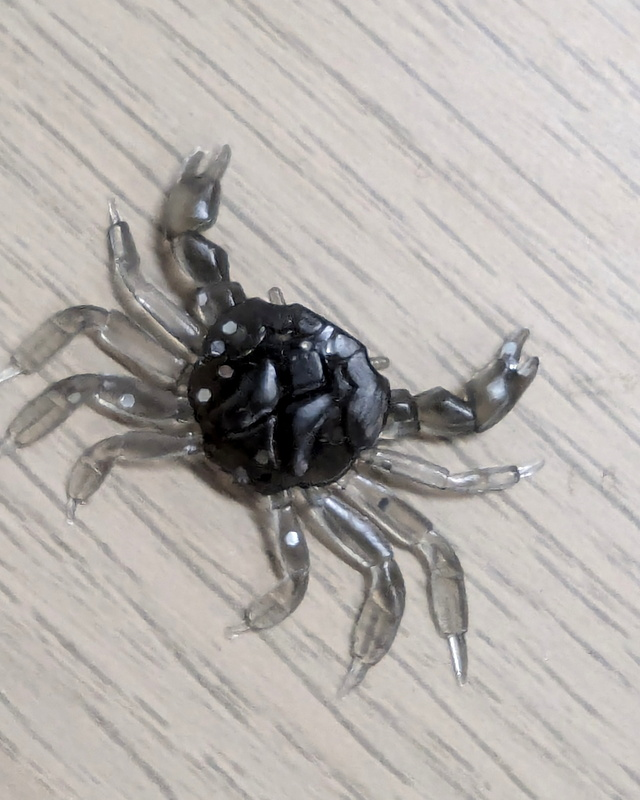crab1: (1, 140, 552, 696)
